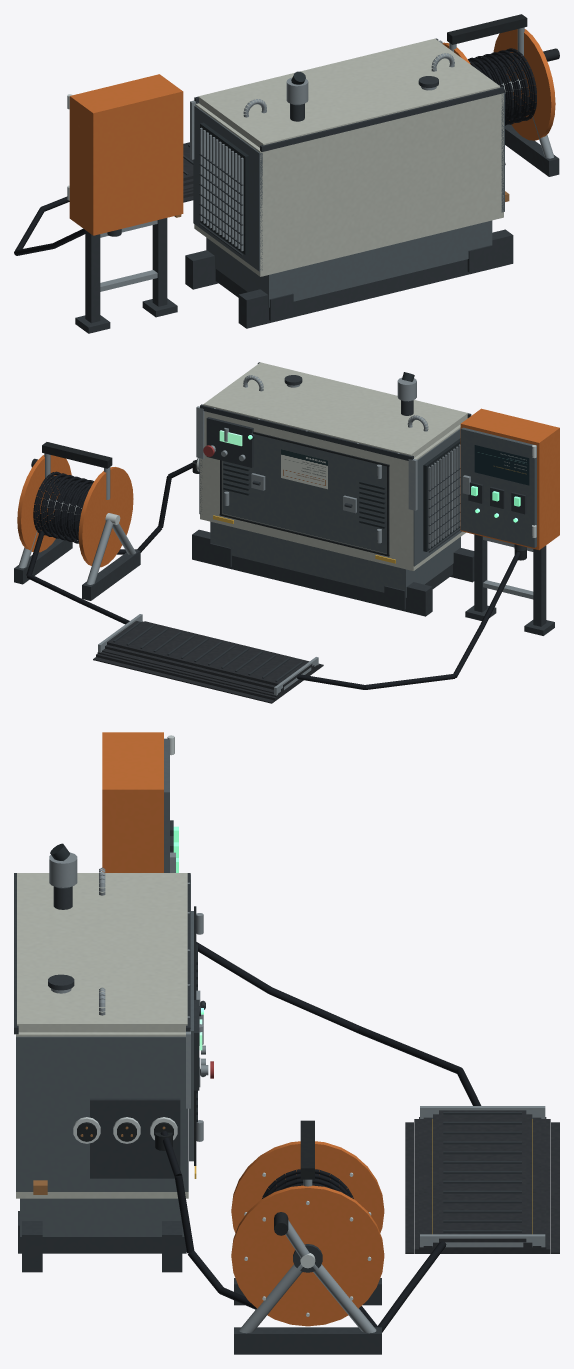
3 views of the same model, one above another, from view 1: azimuth 30°, elevation 25°; view 2: azimuth 150°, elevation 25°; view 3: azimuth 270°, elevation 25° (orthographic). The views are drawn at different scales.
Parts seen in each view (by area): view 1: GEN__VIS_ENCLOSURE_CORE, DIST__VIS_DISTRIBUTION_CABINET, GEN__VIS_TOP_PANEL, GEN__VIS_FUEL_TANK_LOW, GEN__VIS_SKID_RAIL_0.34, GEN__VIS_END_PANEL_-0.89, REEL__VIS_COILED_POWER_CABLE, REEL__VIS_REEL_FLANGE_SHELL_0.257, GEN__VIS_RADIATOR_SHROUD, GEN__VIS_ROOF_EDGE_TRIM_REAR, DIST__VIS_DISTRIBUTION_LEG_-0.247, DIST__VIS_DISTRIBUTION_LEG_0.247 (+11 smaller); view 2: GEN__VIS_TOP_PANEL, GEN__VIS_SERVICE_ACCESS_DOOR, GEN__VIS_ENCLOSURE_CORE, GEN__VIS_FUEL_TANK_LOW, DIST__VIS_DISTRIBUTION_DOOR, RAMP__VIS_REINFORCED_CABLE_RAMP_TOP, DIST__VIS_DISTRIBUTION_CABINET, GEN__VIS_SKID_RAIL_-0.34, REEL__VIS_REEL_FLANGE_SHELL_-0.257, REEL__VIS_COILED_POWER_CABLE, CABLE__VIS_ROUTED_CABLE_1, REEL__VIS_REEL_FLANGE_SHELL_0.257 (+24 smaller); view 3: GEN__VIS_TOP_PANEL, GEN__VIS_END_PANEL_0.89, REEL__VIS_REEL_FLANGE_SHELL_0.257, RAMP__VIS_REINFORCED_CABLE_RAMP_TOP, DIST__VIS_DISTRIBUTION_CABINET, GEN__VIS_POWER_OUTLET_SHIELD, GEN__VIS_FUEL_TANK_LOW, REEL__VIS_REEL_FLANGE_SHELL_-0.257, REEL__VIS_REEL_BASE_FOOT_0.285, CABLE__VIS_ROUTED_CABLE_1, GEN__VIS_SKID_CROSSBEAM_0.73, RAMP__VIS_TRAFFIC_RAMP_BASE (+19 smaller).
Part boxes in pixels (left/top/right/bottom): GEN__VIS_ENCLOSURE_CORE: left=194, top=93, right=503, bottom=276; DIST__VIS_DISTRIBUTION_CABINET: left=69, top=74, right=183, bottom=235; GEN__VIS_TOP_PANEL: left=198, top=38, right=500, bottom=147; GEN__VIS_FUEL_TANK_LOW: left=206, top=220, right=492, bottom=307; GEN__VIS_SKID_RAIL_0.34: left=238, top=229, right=513, bottom=328; GEN__VIS_END_PANEL_-0.89: left=193, top=105, right=262, bottom=271; REEL__VIS_COILED_POWER_CABLE: left=468, top=48, right=536, bottom=125; REEL__VIS_REEL_FLANGE_SHELL_0.257: left=493, top=29, right=555, bottom=140; GEN__VIS_RADIATOR_SHROUD: left=200, top=122, right=249, bottom=254; GEN__VIS_ROOF_EDGE_TRIM_REAR: left=260, top=86, right=504, bottom=151; DIST__VIS_DISTRIBUTION_LEG_-0.247: left=85, top=230, right=100, bottom=323; DIST__VIS_DISTRIBUTION_LEG_0.247: left=152, top=218, right=167, bottom=306; GEN__VIS_TOP_PANEL: left=203, top=362, right=467, bottom=457; GEN__VIS_SERVICE_ACCESS_DOOR: left=222, top=434, right=386, bottom=553; GEN__VIS_ENCLOSURE_CORE: left=200, top=411, right=465, bottom=570; GEN__VIS_FUEL_TANK_LOW: left=210, top=521, right=460, bottom=597; DIST__VIS_DISTRIBUTION_DOOR: left=461, top=427, right=536, bottom=547; RAMP__VIS_REINFORCED_CABLE_RAMP_TOP: left=107, top=621, right=312, bottom=687; DIST__VIS_DISTRIBUTION_CABINET: left=460, top=408, right=559, bottom=550; GEN__VIS_SKID_RAIL_-0.34: left=192, top=529, right=432, bottom=616; REEL__VIS_REEL_FLANGE_SHELL_-0.257: left=78, top=467, right=133, bottom=567; REEL__VIS_COILED_POWER_CABLE: left=33, top=471, right=93, bottom=543; CABLE__VIS_ROUTED_CABLE_1: left=26, top=530, right=520, bottom=689; REEL__VIS_REEL_FLANGE_SHELL_0.257: left=17, top=455, right=71, bottom=552; GEN__VIS_TOP_PANEL: left=17, top=873, right=187, bottom=1032; GEN__VIS_END_PANEL_0.89: left=16, top=1036, right=188, bottom=1191; REEL__VIS_REEL_FLANGE_SHELL_0.257: left=231, top=1185, right=384, bottom=1326; RAMP__VIS_REINFORCED_CABLE_RAMP_TOP: left=439, top=1110, right=526, bottom=1242; DIST__VIS_DISTRIBUTION_CABINET: left=102, top=732, right=163, bottom=872; GEN__VIS_POWER_OUTLET_SHIELD: left=90, top=1098, right=180, bottom=1178; GEN__VIS_FUEL_TANK_LOW: left=20, top=1198, right=184, bottom=1236; REEL__VIS_REEL_FLANGE_SHELL_-0.257: left=231, top=1141, right=384, bottom=1232; REEL__VIS_REEL_BASE_FOOT_0.285: left=234, top=1327, right=381, bottom=1354; CABLE__VIS_ROUTED_CABLE_1: left=196, top=942, right=481, bottom=1332; GEN__VIS_SKID_CROSSBEAM_0.73: left=18, top=1211, right=186, bottom=1253; RAMP__VIS_TRAFFIC_RAMP_BASE: left=419, top=1117, right=546, bottom=1253.
Size of the model in its own units: 3.91 by 1.62 by 2.66.
Materials: 18 (18 with a texture image).
